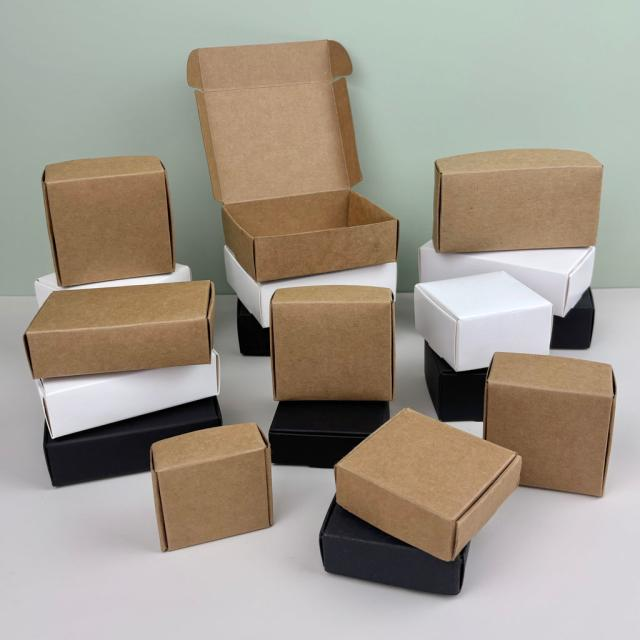cardboard_box: (179, 15, 411, 278), (332, 380, 545, 592), (9, 147, 207, 301), (121, 423, 283, 561)
